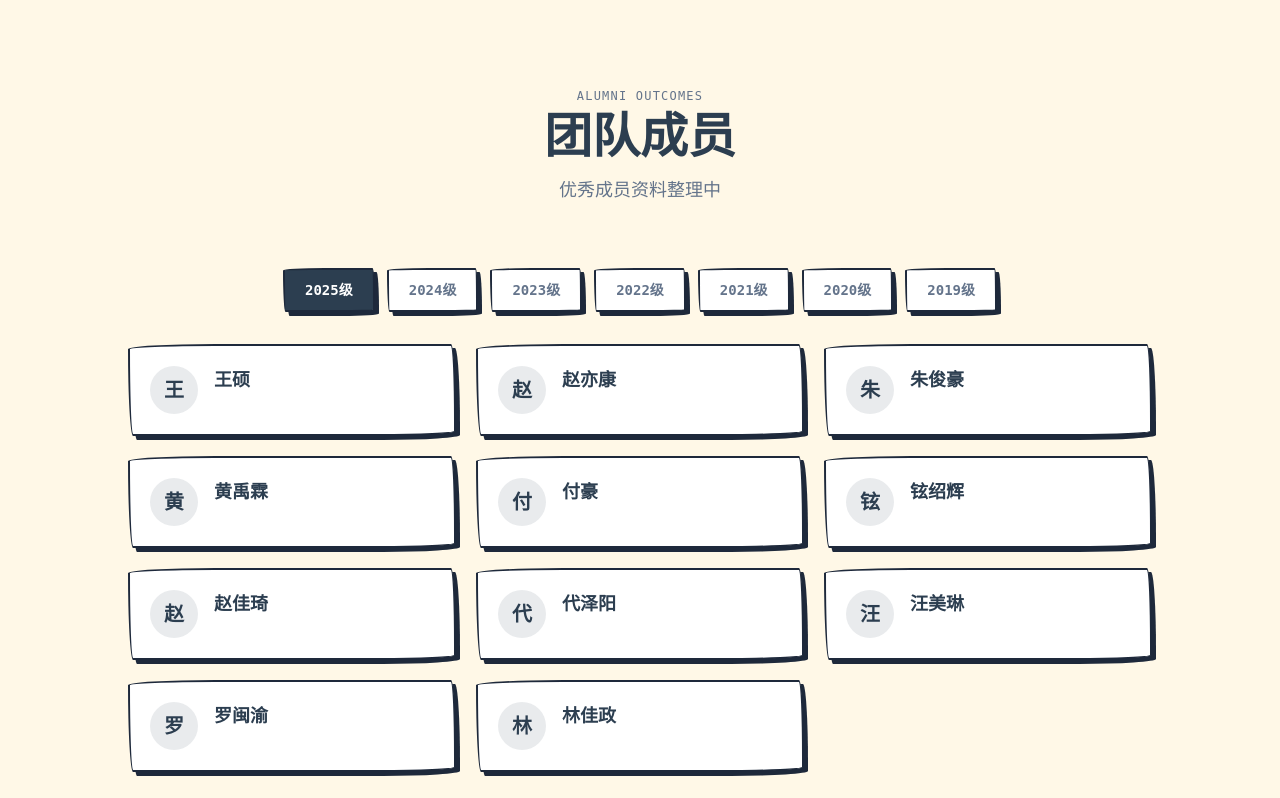
it: groups alumni by cohort and exposes their outcomes
This screenshot has width=1280, height=798.
Check: the heading "团队成员" is shown, box [544, 106, 736, 165]
Check: the tab "2023级" is shown, box [490, 268, 582, 312]
Click the tab "2019级".
click(951, 290)  # box [905, 268, 997, 312]
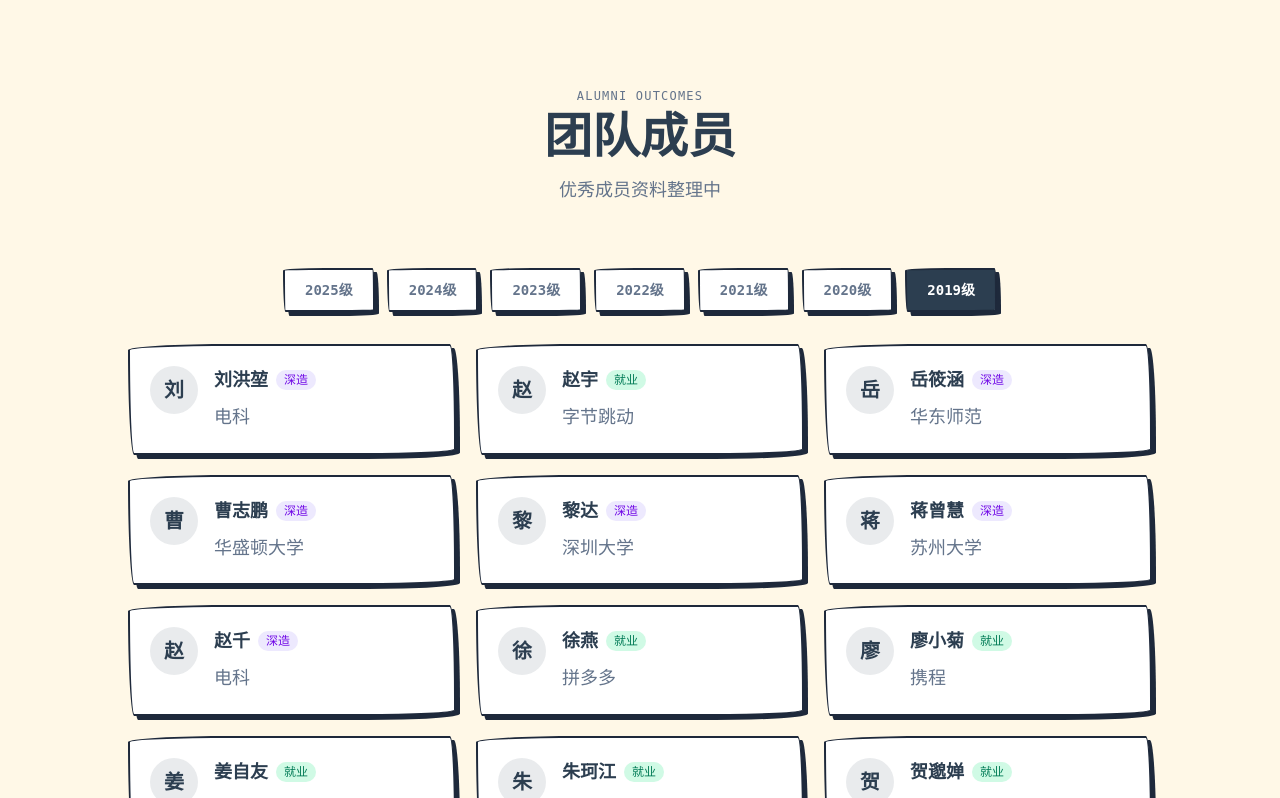
Check: the heading "刘洪堃" is shown, box [214, 366, 268, 394]
Check: the element "刘洪堃" shows "深造", box [284, 373, 308, 387]
Check: the element "岳筱涵" shows "深造", box [980, 373, 1004, 387]
